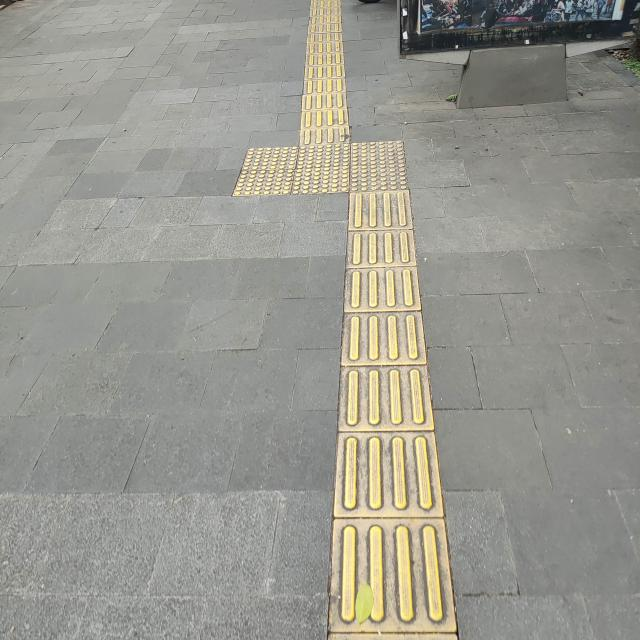lurus: (344, 197, 438, 640), (297, 2, 354, 148)
